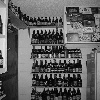beer: (30, 30, 37, 44)
